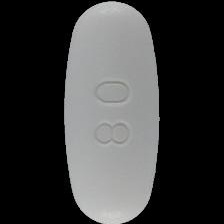13668-158: (0, 0, 224, 224)
